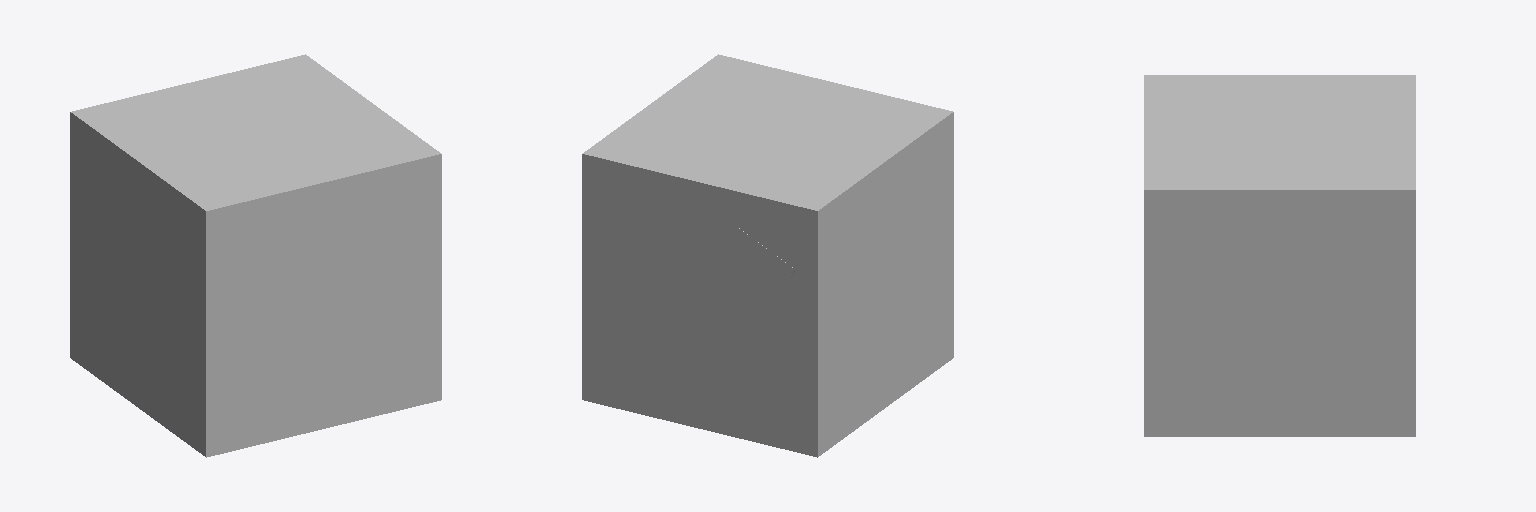
File: correct.obj
The picture shows the model from 3 angles: view 1: azimuth 30°, elevation 25°; view 2: azimuth 150°, elevation 25°; view 3: azimuth 270°, elevation 25°; orthographic projection.
Visible parts, largest first — view 1: Cube; view 2: Cube, Cube.001; view 3: Cube.
Part boxes in pixels (left/top/right/bottom): Cube: left=70, top=54, right=441, bottom=457; Cube: left=582, top=54, right=953, bottom=457; Cube.001: left=706, top=226, right=794, bottom=325; Cube: left=1144, top=75, right=1415, bottom=436.
Size of the model in its own units: 11.43 by 11.43 by 11.44.